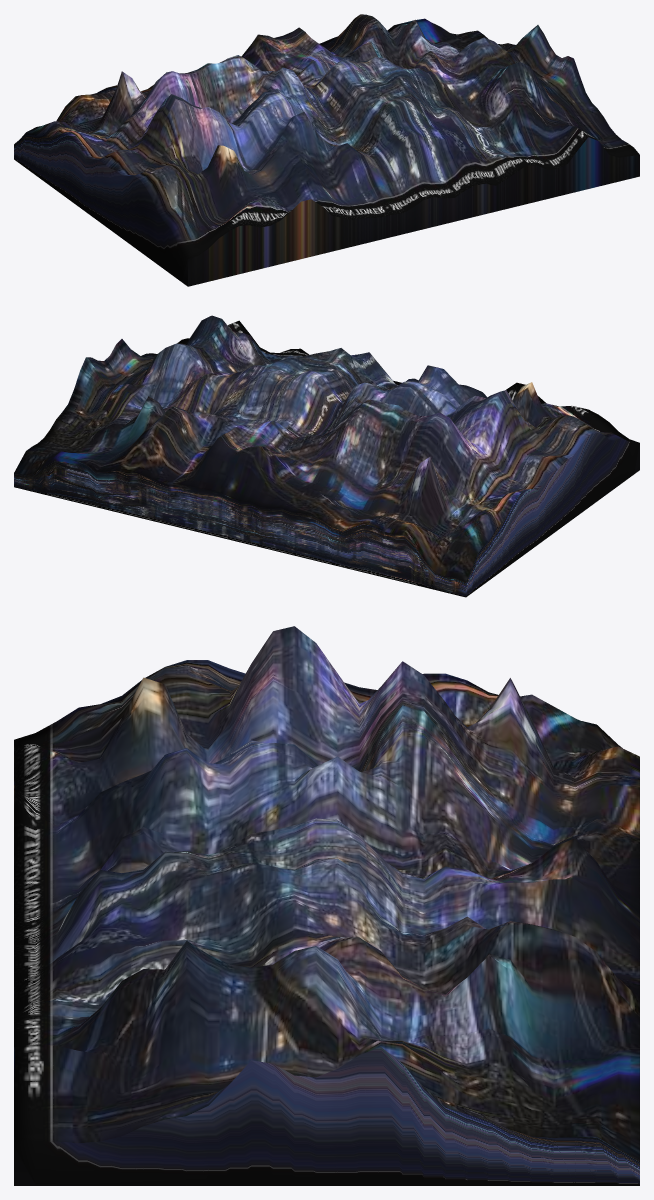
File: TOWER_INT_12_Illusion_Tower.glb
3 views of the same model, one above another, from view 1: azimuth 30°, elevation 25°; view 2: azimuth 150°, elevation 25°; view 3: azimuth 270°, elevation 25° (orthographic). The views are drawn at different scales.
Visible parts, largest first — view 1: TOWER_INT_12_Illusion_Tower; view 2: TOWER_INT_12_Illusion_Tower; view 3: TOWER_INT_12_Illusion_Tower.
Part boxes in pixels (left/top/right/bottom): TOWER_INT_12_Illusion_Tower: left=14, top=14, right=639, bottom=286; TOWER_INT_12_Illusion_Tower: left=14, top=315, right=639, bottom=597; TOWER_INT_12_Illusion_Tower: left=14, top=626, right=639, bottom=1185.
Size of the model in its own units: 2 by 0.51 by 1.33.
1 material, 1 textured.
